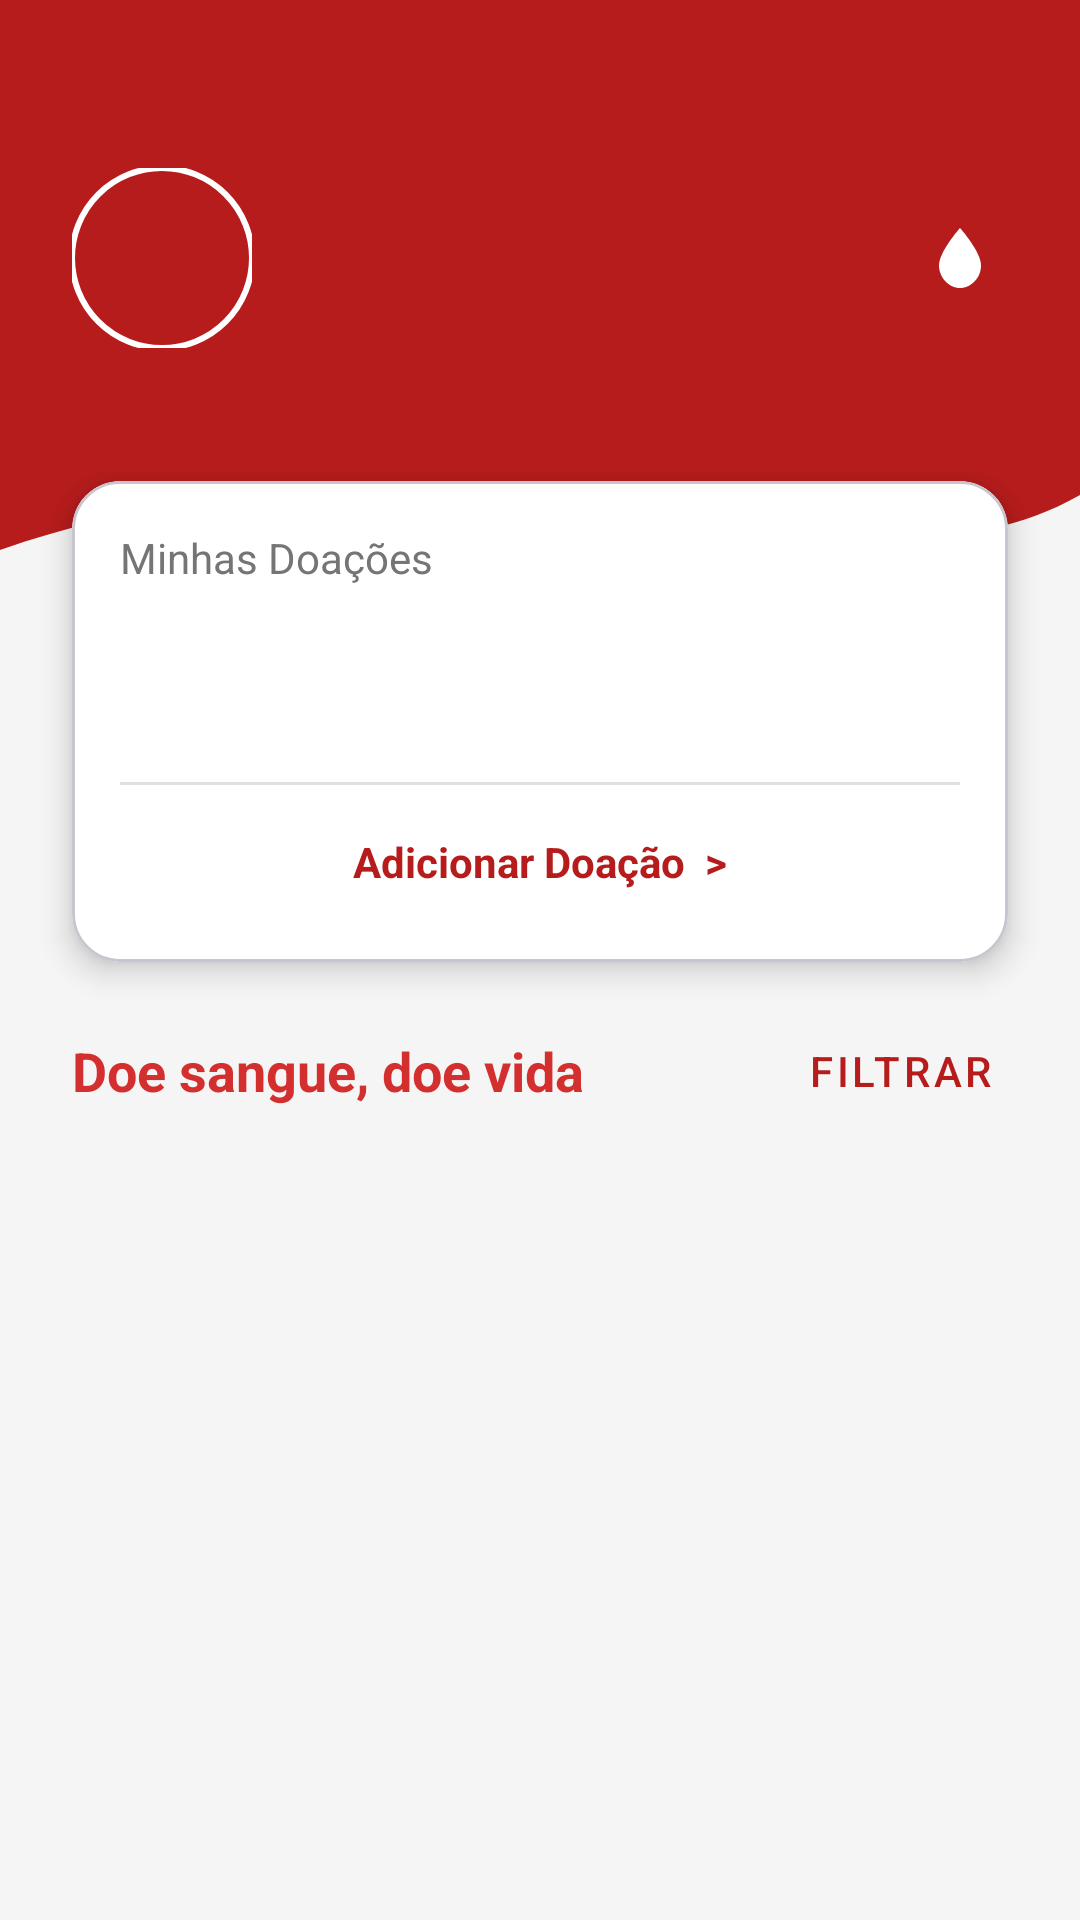

Icon click points for this 1080 × 1920 phone screenshot, format [x,y]:
blood drop: [960,258]
